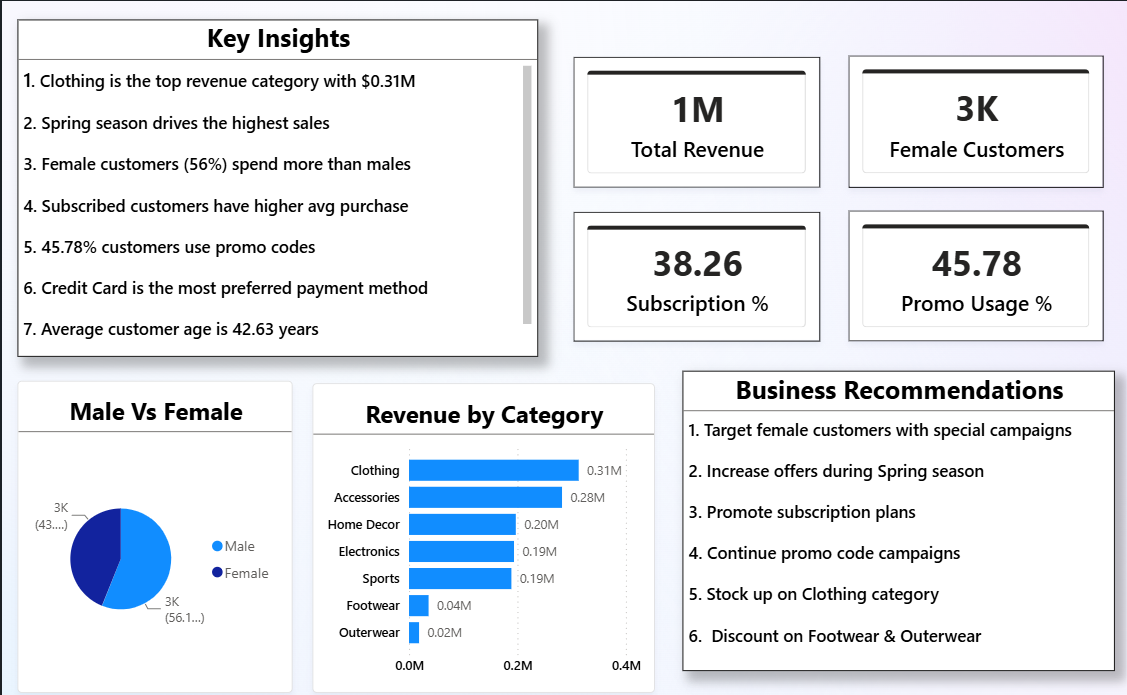

What the dashboard file says about the page in this screenshot:
{"tool":"powerbi","page":{"name":"Insights & Recommendations","canvas":[1100,700],"ordinal":5},"visuals":[{"type":"textbox","title":"Key Insights","box":[21.5,26.3,495,320.4],"z":0},{"type":"cardVisual","fields":{"Data":["Project_Shopping_Trends.Total Revenue"]},"box":[550,62.2,234.3,124.3],"z":1000},{"type":"cardVisual","fields":{"Data":["Project_Shopping_Trends.Female Customers"]},"box":[811.8,61,242.7,125.5],"z":2000},{"type":"cardVisual","fields":{"Data":["Project_Shopping_Trends.Promo Usage %"]},"box":[811.8,208,242.7,124.3],"z":3000},{"type":"cardVisual","fields":{"Data":["Project_Shopping_Trends.Subscription %"]},"box":[550,209.2,234.3,123.2],"z":4000},{"type":"barChart","title":"Revenue by Category","fields":{"Category":["Project_Shopping_Trends.Category"],"Y":["Project_Shopping_Trends.Total Revenue"]},"box":[302.5,371.8,325.2,294.1],"z":5000},{"type":"pieChart","title":"Male Vs Female","fields":{"Y":["Project_Shopping_Trends.Total Customers"],"Category":["Project_Shopping_Trends.Gender"]},"box":[21.5,369.5,261.8,296.5],"z":6000},{"type":"textbox","title":"Business Recommendations","box":[654,359.9,411.3,285.8],"z":7000}]}

Visuals, with their boxes on the page's 1100x700 design canvas (x1, y1, x2, y2). These are canvas units, not pixel positions in the 1127x695 screenshot, which may show the page scaled, cropped or inside an application window:
"Key Insights" textbox: rect(22, 26, 516, 347)
cardVisual - Project_Shopping_Trends.Total Revenue: rect(550, 62, 784, 186)
cardVisual - Project_Shopping_Trends.Female Customers: rect(812, 61, 1054, 186)
cardVisual - Project_Shopping_Trends.Promo Usage %: rect(812, 208, 1054, 332)
cardVisual - Project_Shopping_Trends.Subscription %: rect(550, 209, 784, 332)
"Revenue by Category" barChart: rect(302, 372, 628, 666)
"Male Vs Female" pieChart: rect(22, 370, 283, 666)
"Business Recommendations" textbox: rect(654, 360, 1065, 646)
